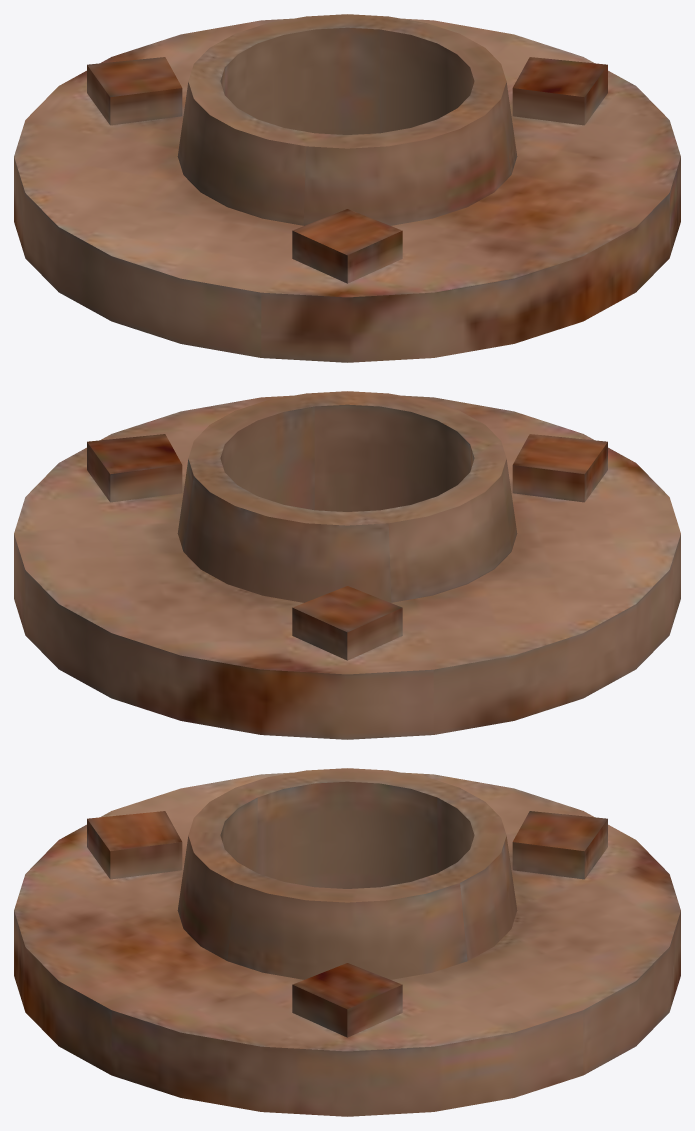
The model's file is small_copper_pipe_23.glb.
3 renders of one model, top to bottom at view 1: azimuth 30°, elevation 25°; view 2: azimuth 150°, elevation 25°; view 3: azimuth 270°, elevation 25°, orthographic.
Parts seen in each view (by area): view 1: small_copper_pipe_23; view 2: small_copper_pipe_23; view 3: small_copper_pipe_23.
Boxes of the visible parts, x1,y1,x2,y2 form: small_copper_pipe_23: [14, 14, 680, 362]; small_copper_pipe_23: [14, 391, 680, 739]; small_copper_pipe_23: [14, 768, 680, 1116].
Size of what is drawn, in the model's own units: 0.0458 by 0.0106 by 0.0458.
1 material, 1 textured.
